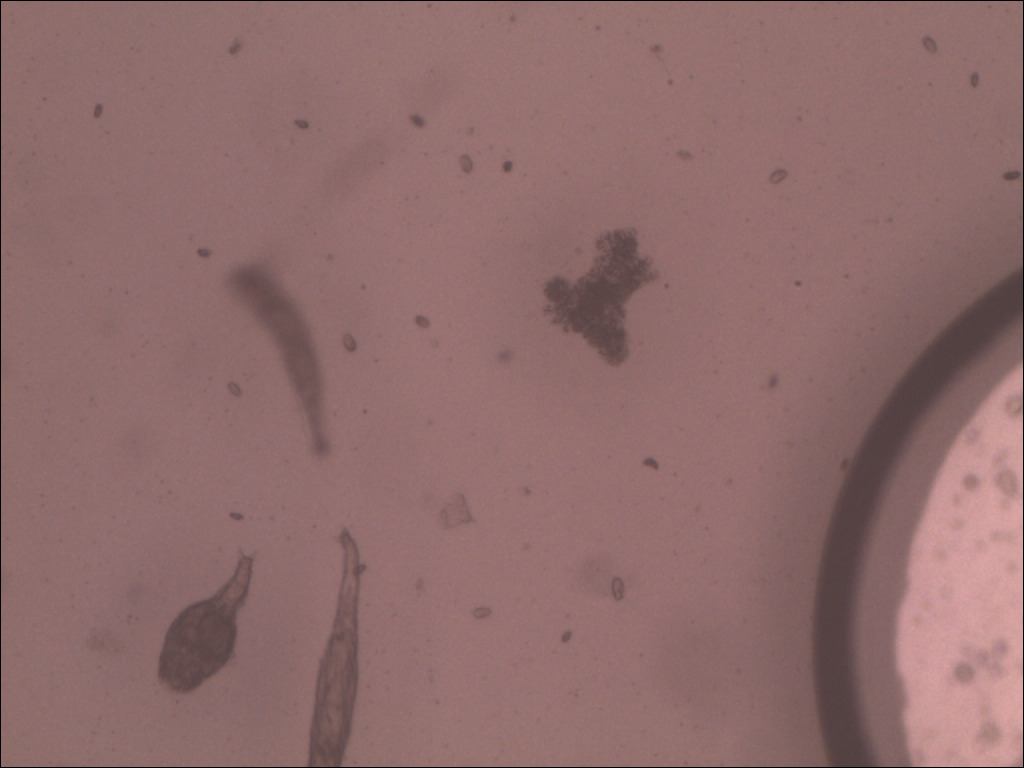amoeba: (531, 221, 675, 382)
